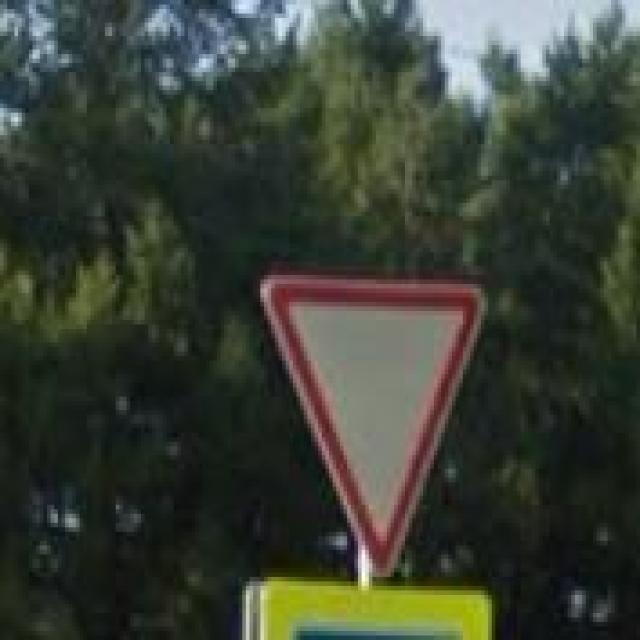give_way: (260, 275, 484, 577)
